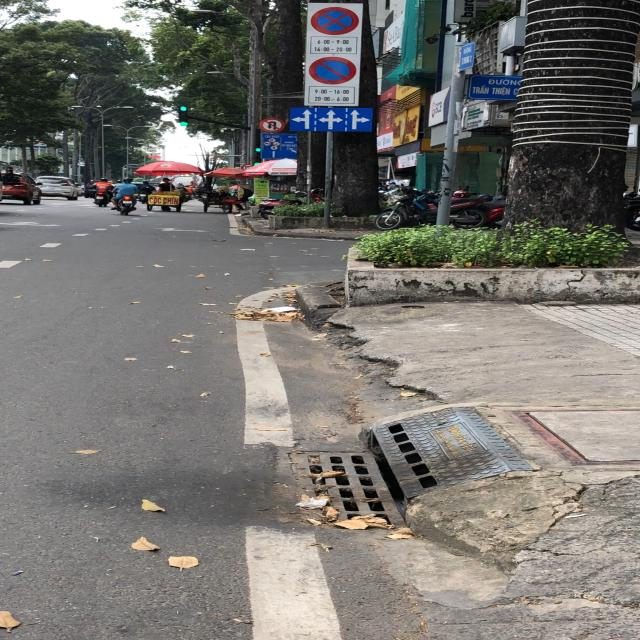Bien bao cam dung xe va do xe: (306, 57, 362, 89), (311, 6, 364, 36)
Bien bao cam quay dau xe: (257, 114, 289, 134)
